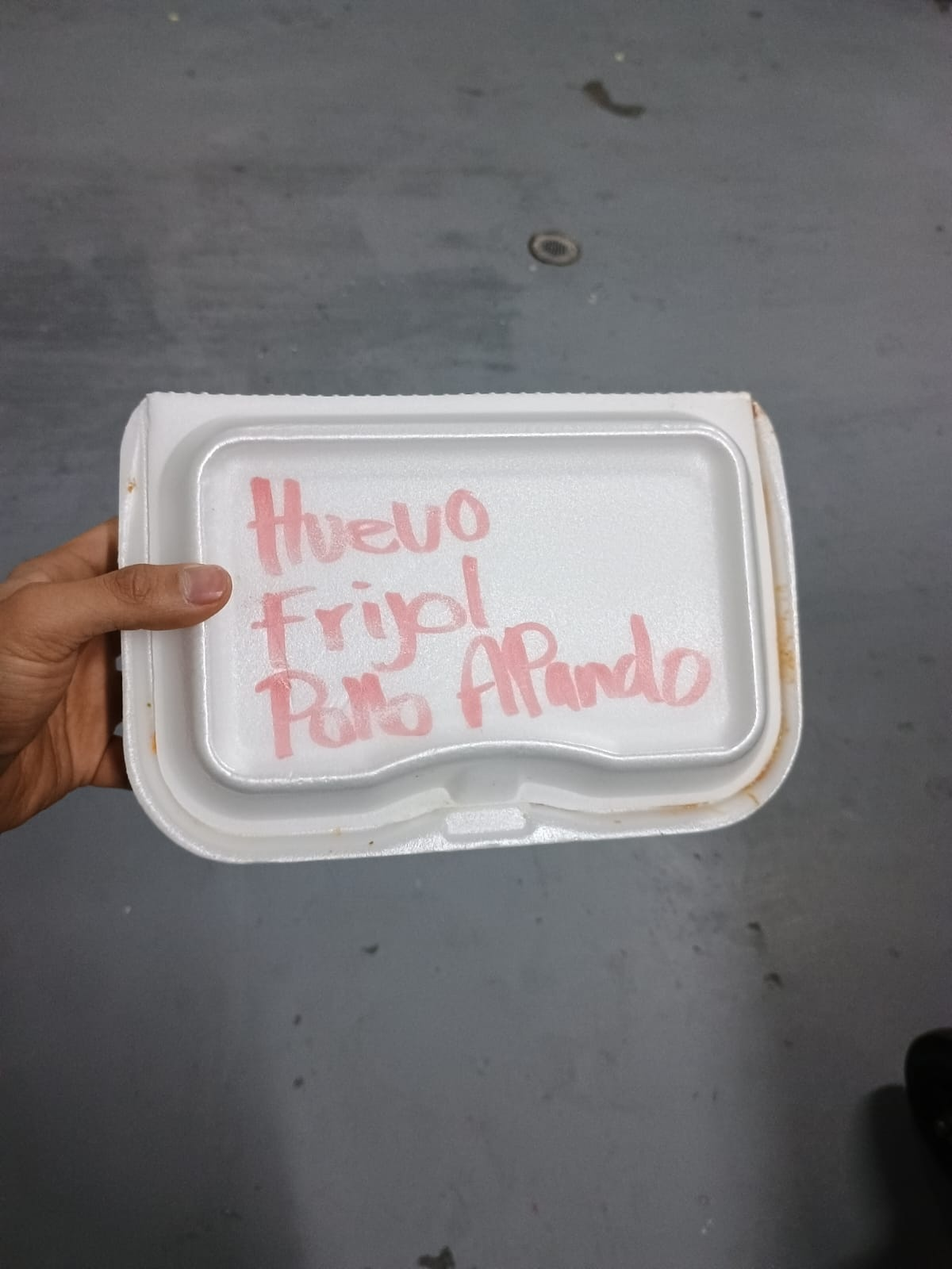Ordinario: (117, 389, 806, 865)
